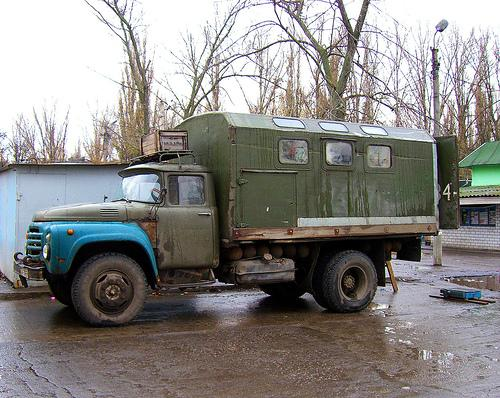truck: (14, 111, 460, 328)
